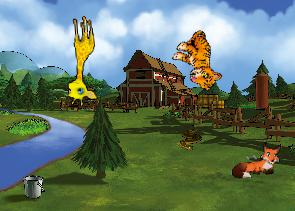fox: (229, 140, 284, 180)
giraffe: (61, 15, 98, 106)
tiger: (165, 25, 235, 94)
